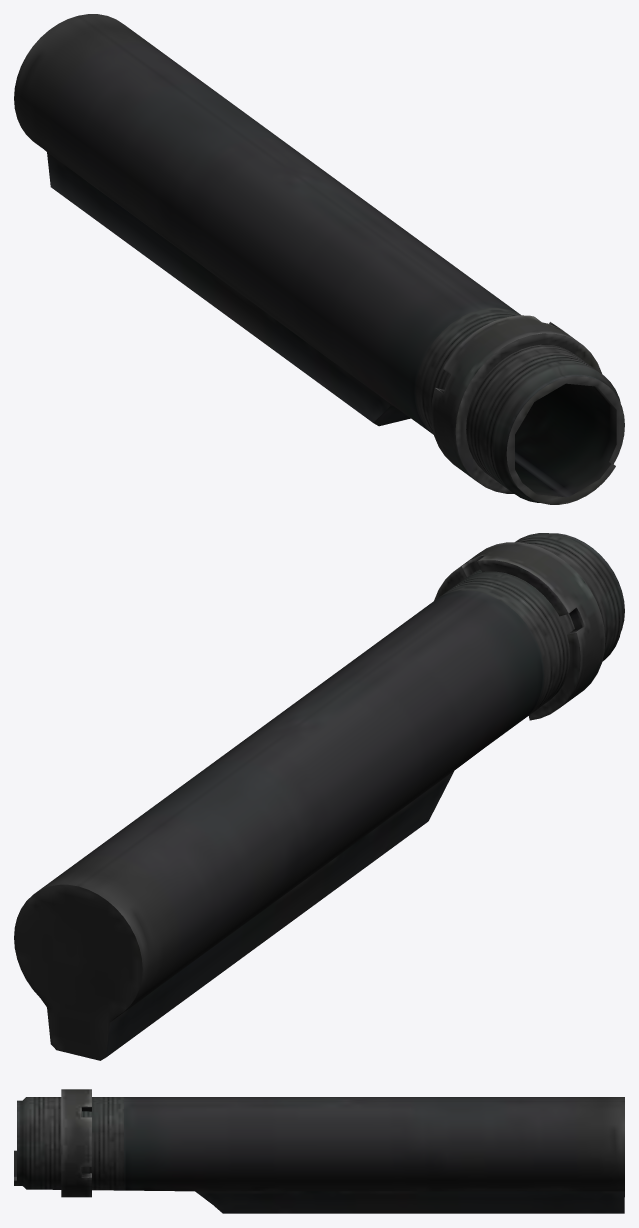
3 views of the same model, one above another, from view 1: azimuth 30°, elevation 25°; view 2: azimuth 150°, elevation 25°; view 3: azimuth 270°, elevation 25° (orthographic). The views are drawn at different scales.
Parts seen in each view (by area): view 1: stock_ar15_colt_stock_tube_std_LOD0; view 2: stock_ar15_colt_stock_tube_std_LOD0; view 3: stock_ar15_colt_stock_tube_std_LOD0.
Part boxes in pixels (x1,y1,x2,y2): stock_ar15_colt_stock_tube_std_LOD0: (14, 14, 624, 504); stock_ar15_colt_stock_tube_std_LOD0: (14, 533, 624, 1060); stock_ar15_colt_stock_tube_std_LOD0: (14, 1089, 624, 1213).
Bounding box in the file's own units: 0.0346 × 0.0398 × 0.1959.
Materials: 1 (1 with a texture image).
